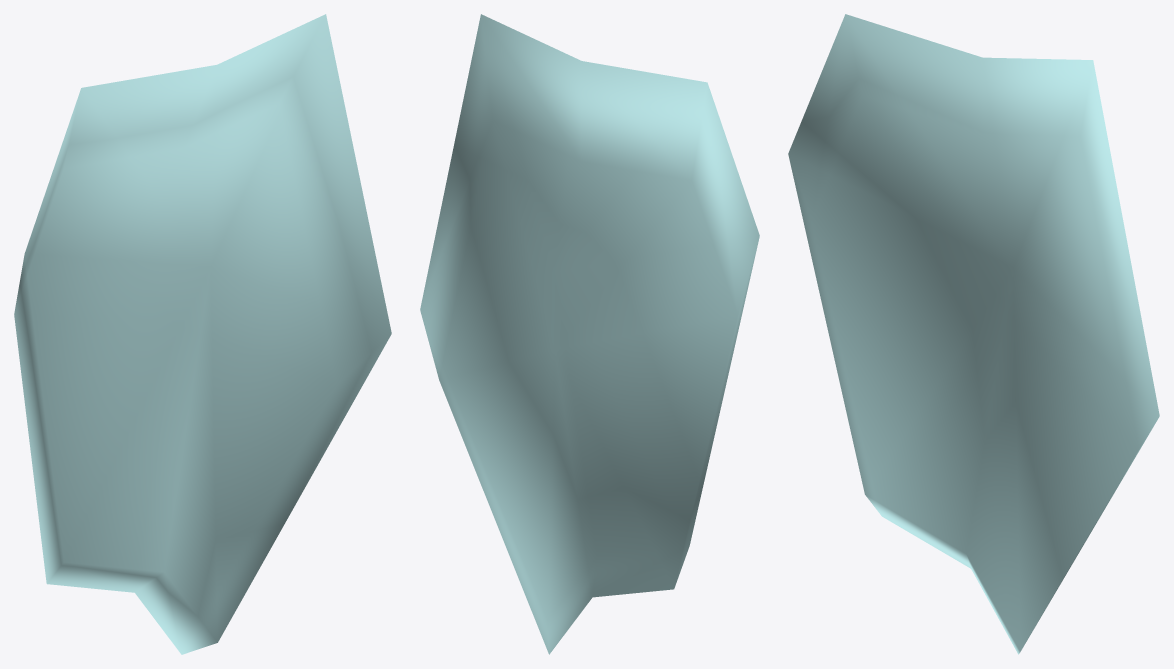
File: Shard_5_S.fbx
The picture shows the model from 3 angles, left to right: view 1: azimuth 30°, elevation 25°; view 2: azimuth 150°, elevation 25°; view 3: azimuth 330°, elevation 25°; orthographic projection. The views are drawn at different scales.
Visible parts, largest first — view 1: Shard_Sharp_5; view 2: Shard_Sharp_5; view 3: Shard_Sharp_5.
Boxes of the visible parts, x1,y1,x2,y2 form: Shard_Sharp_5: [14, 14, 391, 654]; Shard_Sharp_5: [420, 14, 759, 654]; Shard_Sharp_5: [788, 14, 1159, 654].
Size of the model in its own units: 607 by 1011 by 101.
